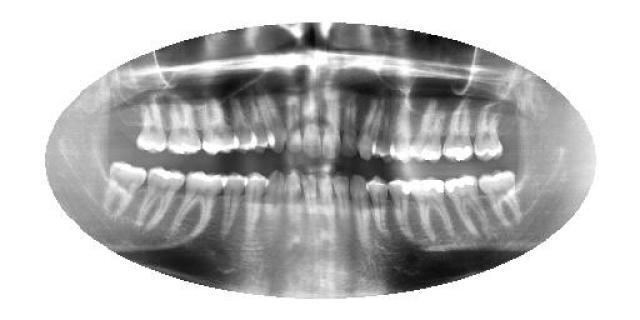Fillings: (410, 176, 454, 242), (446, 175, 490, 235), (164, 95, 202, 159), (409, 98, 445, 162), (443, 99, 475, 162), (388, 176, 418, 242)
